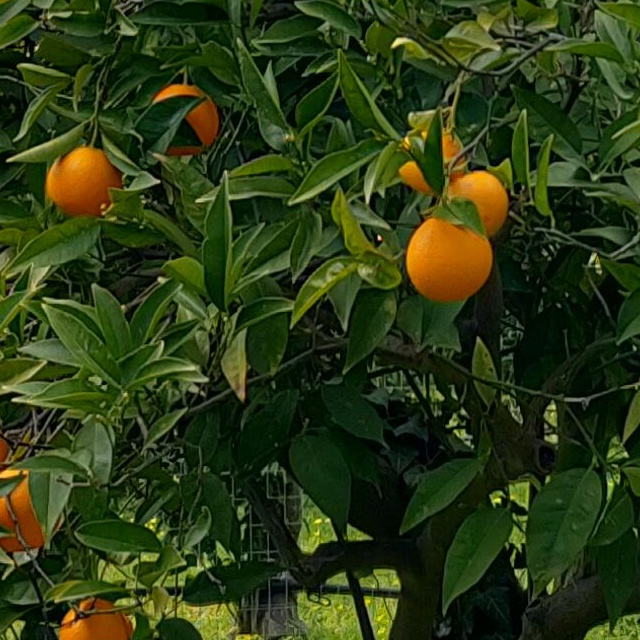orange: (24, 123, 154, 243), (139, 68, 239, 162), (400, 210, 496, 304), (0, 468, 63, 554), (395, 122, 469, 192), (441, 165, 511, 237), (54, 596, 136, 640), (0, 409, 6, 479)
